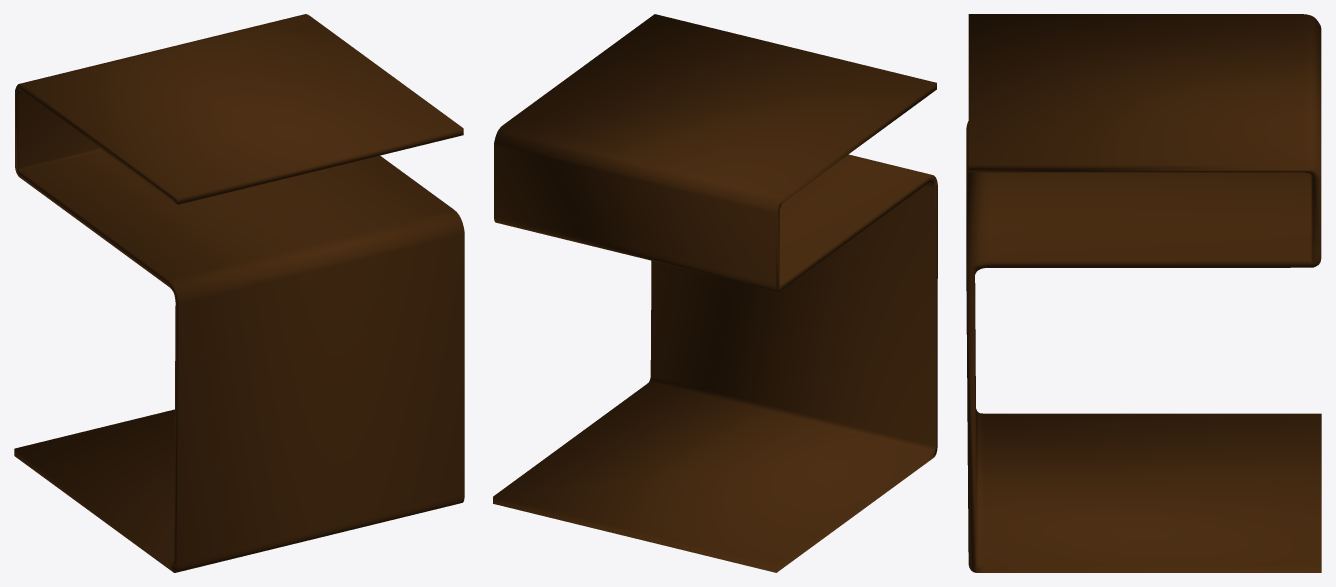
Rendered from ND-0794__Saura_mesa12.glb.
3 views of the same model, side by side, from view 1: azimuth 30°, elevation 25°; view 2: azimuth 150°, elevation 25°; view 3: azimuth 270°, elevation 25° (orthographic). The views are drawn at different scales.
Visible parts, largest first — view 1: Cube.002; view 2: Cube.002; view 3: Cube.002.
Part boxes in pixels (x1,y1,x2,y2): Cube.002: (14, 14, 464, 572); Cube.002: (493, 14, 937, 572); Cube.002: (966, 14, 1321, 572).
Size of the model in its own units: 1.62 by 2.03 by 1.6.
